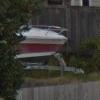Boat: (13, 20, 81, 68)
